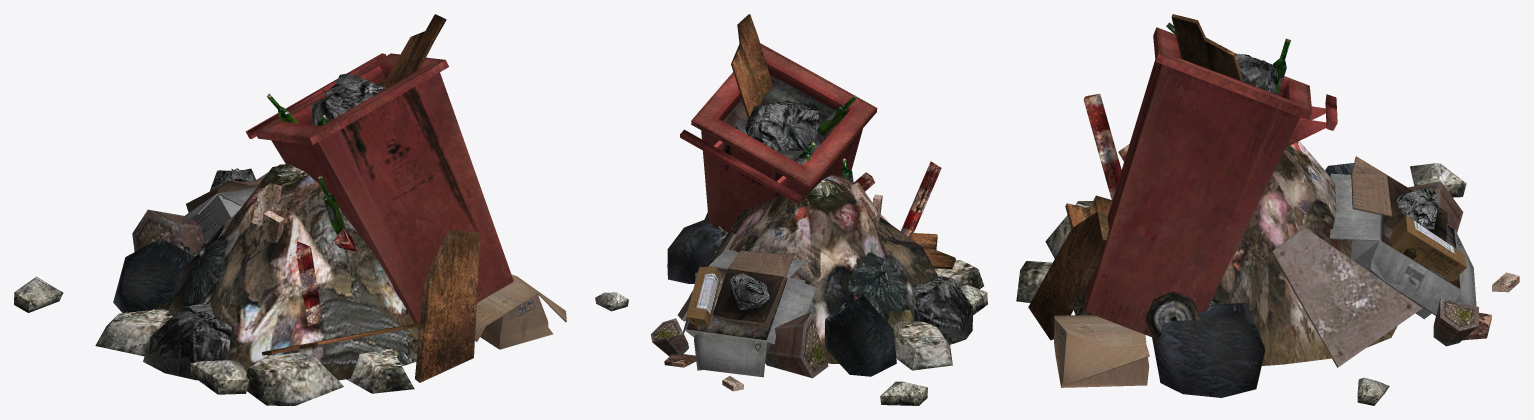
The model's file is Prop_Garbage01_lod1.glb.
3 renders of one model, left to right at view 1: azimuth 30°, elevation 25°; view 2: azimuth 150°, elevation 25°; view 3: azimuth 270°, elevation 25°, orthographic. The views are drawn at different scales.
Visible parts, largest first — view 1: garbage01_lod1; view 2: garbage01_lod1; view 3: garbage01_lod1.
Part boxes in pixels (<box>): garbage01_lod1: <box>14,14,566,405</box>; garbage01_lod1: <box>595,14,987,405</box>; garbage01_lod1: <box>1016,14,1519,405</box>.
Bounding box in the file's own units: 4.71 × 3.43 × 4.4.
1 material, 1 textured.
